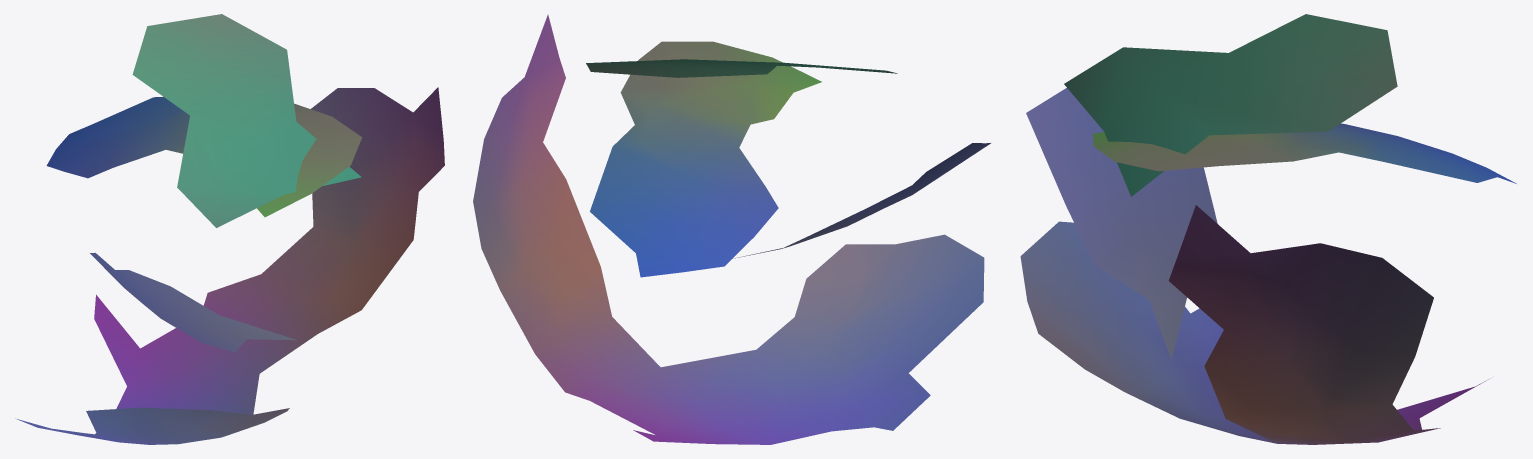
Rendered from space-nebulae-nebula_v11.glb.
3 renders of one model, left to right at view 1: azimuth 30°, elevation 25°; view 2: azimuth 150°, elevation 25°; view 3: azimuth 270°, elevation 25°, orthographic. The views are drawn at different scales.
Visible parts, largest first — view 1: Nebula_v11; view 2: Nebula_v11; view 3: Nebula_v11.
Part boxes in pixels (bbox=[...]): Nebula_v11: bbox=[15, 14, 444, 444]; Nebula_v11: bbox=[473, 14, 990, 444]; Nebula_v11: bbox=[1020, 14, 1516, 444].
Size of the model in its own units: 0.5 by 0.4426 by 0.4872.
